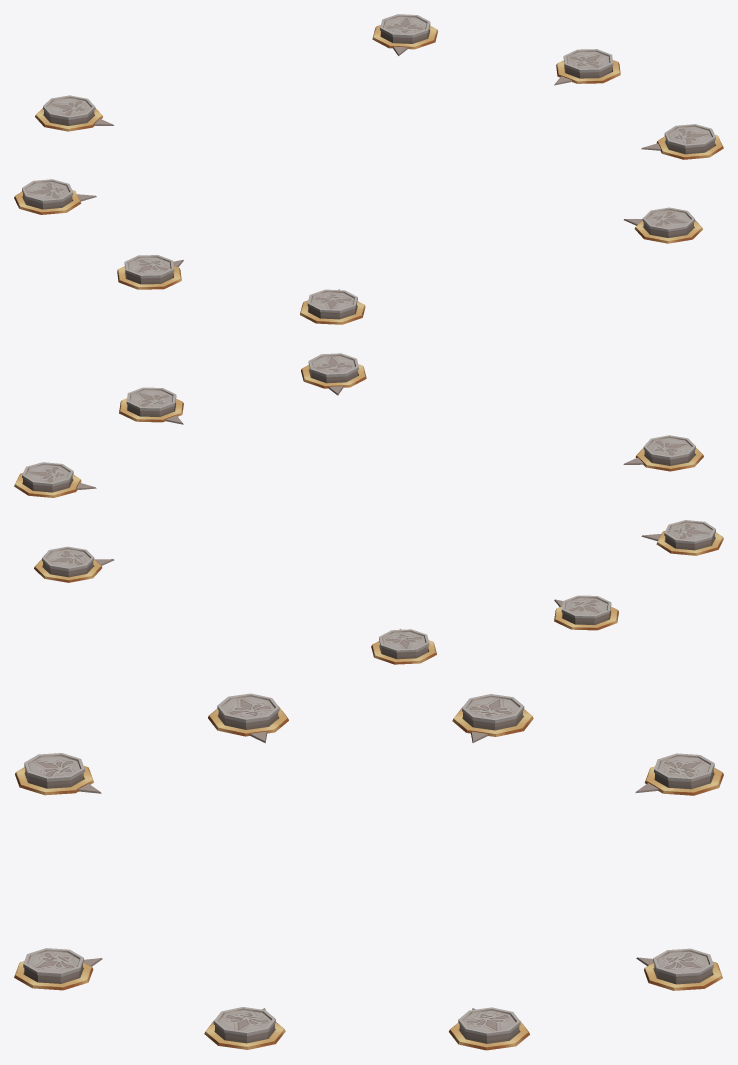
The model's file is button.FBX.
The picture shows the model from 3 angles, top to bottom: view 1: azimuth 30°, elevation 25°; view 2: azimuth 150°, elevation 25°; view 3: azimuth 270°, elevation 25°; orthographic projection. The views are drawn at different scales.
Visible parts, largest first — view 1: Object134, Object146, Object137, Object145, Object131, Object140, Object142, Object152, Object151, Object144, Object139, Object147 (+4 smaller); view 2: Object142, Object131, Object140, Object152, Object146, Object134, Object137, Object145, Object147, Object149, Object151, Object136 (+4 smaller); view 3: Object140, Object152, Object137, Object145, Object142, Object131, Object134, Object146, Object130, Object133, Object144, Object139 (+4 smaller).
Boxes of the visible parts, x1=… form: Object134: x1=642, y1=207, x2=694, y2=237; Object146: x1=43, y1=95, x2=95, y2=125; Object137: x1=664, y1=124, x2=715, y2=154; Object145: x1=22, y1=179, x2=73, y2=209; Object131: x1=380, y1=14, x2=430, y2=43; Object140: x1=563, y1=49, x2=613, y2=78; Object142: x1=307, y1=289, x2=357, y2=319; Object152: x1=124, y1=255, x2=174, y2=284; Object151: x1=117, y1=266, x2=181, y2=289; Object144: x1=300, y1=300, x2=365, y2=324; Object139: x1=556, y1=60, x2=620, y2=83; Object147: x1=14, y1=190, x2=81, y2=214; Object142: x1=643, y1=435, x2=695, y2=465; Object131: x1=42, y1=546, x2=94, y2=577; Object140: x1=22, y1=462, x2=73, y2=492; Object152: x1=664, y1=520, x2=715, y2=550; Object146: x1=379, y1=629, x2=429, y2=659; Object134: x1=308, y1=353, x2=358, y2=383; Object137: x1=126, y1=387, x2=176, y2=416; Object145: x1=561, y1=595, x2=611, y2=624; Object147: x1=554, y1=606, x2=618, y2=630; Object149: x1=371, y1=640, x2=436, y2=664; Object151: x1=656, y1=531, x2=723, y2=555; Object136: x1=119, y1=398, x2=183, y2=422; Object140: x1=458, y1=1007, x2=520, y2=1043; Object152: x1=217, y1=693, x2=279, y2=729; Object137: x1=213, y1=1007, x2=275, y2=1043; Object145: x1=462, y1=694, x2=524, y2=730; Object142: x1=24, y1=753, x2=84, y2=788; Object131: x1=653, y1=948, x2=713, y2=984; Object134: x1=23, y1=948, x2=83, y2=983; Object146: x1=654, y1=753, x2=714, y2=789; Object130: x1=644, y1=961, x2=722, y2=990; Object133: x1=14, y1=961, x2=93, y2=990; Object144: x1=15, y1=766, x2=93, y2=795; Object139: x1=449, y1=1020, x2=529, y2=1050.
Bounding box in the file's own units: 2570 × 43.84 × 2214.
